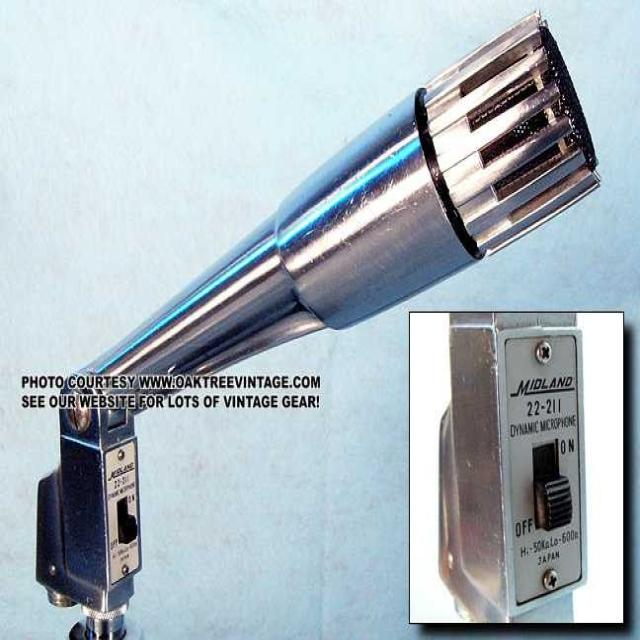microphone: (30, 25, 606, 333)
